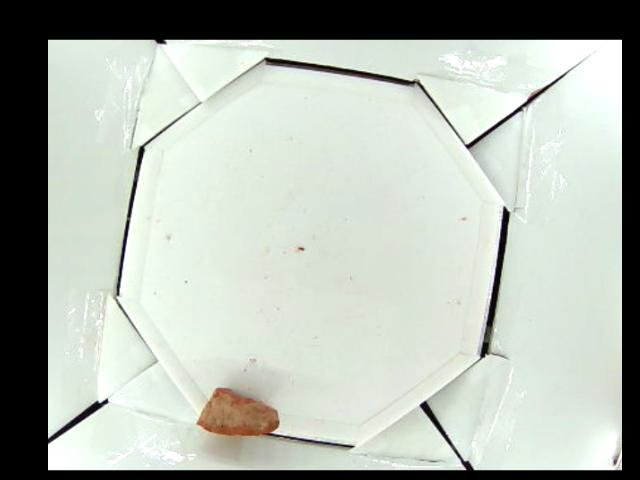Brisk: (198, 388, 277, 435)
